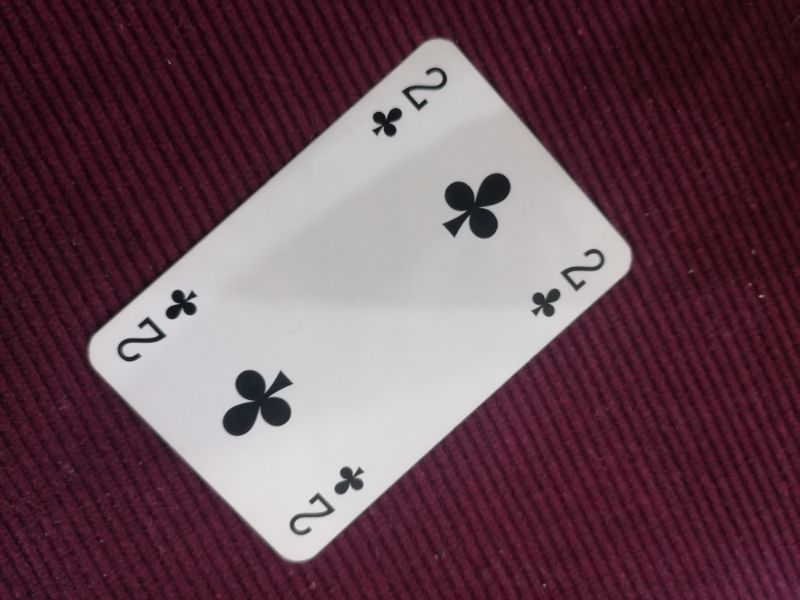2c: (114, 285, 202, 366), (285, 462, 371, 539), (527, 245, 611, 320), (370, 65, 450, 138)
